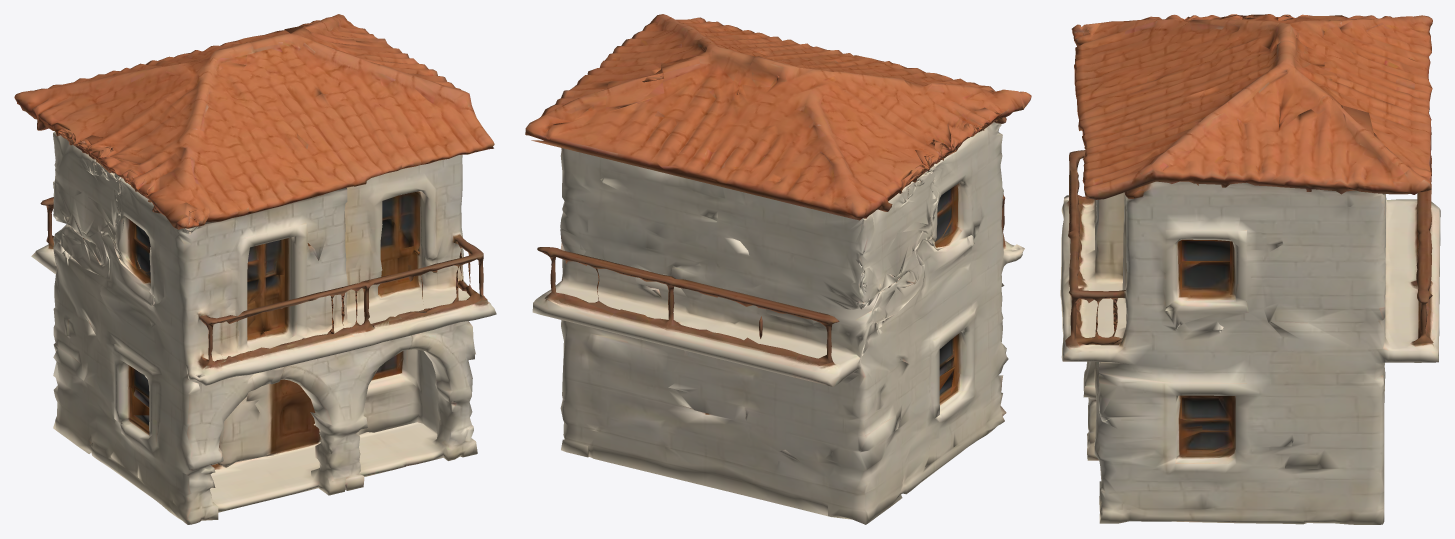
The model's file is h_villa.glb.
3 views of the same model, side by side, from view 1: azimuth 30°, elevation 25°; view 2: azimuth 150°, elevation 25°; view 3: azimuth 270°, elevation 25° (orthographic). The views are drawn at different scales.
Visible parts, largest first — view 1: model; view 2: model; view 3: model.
Boxes of the visible parts, x1,y1,x2,y2 form: model: [14, 14, 496, 524]; model: [525, 14, 1031, 524]; model: [1060, 14, 1440, 524].
Size of the model in its own units: 1.73 by 1.9 by 1.6.
1 material, 1 textured.
